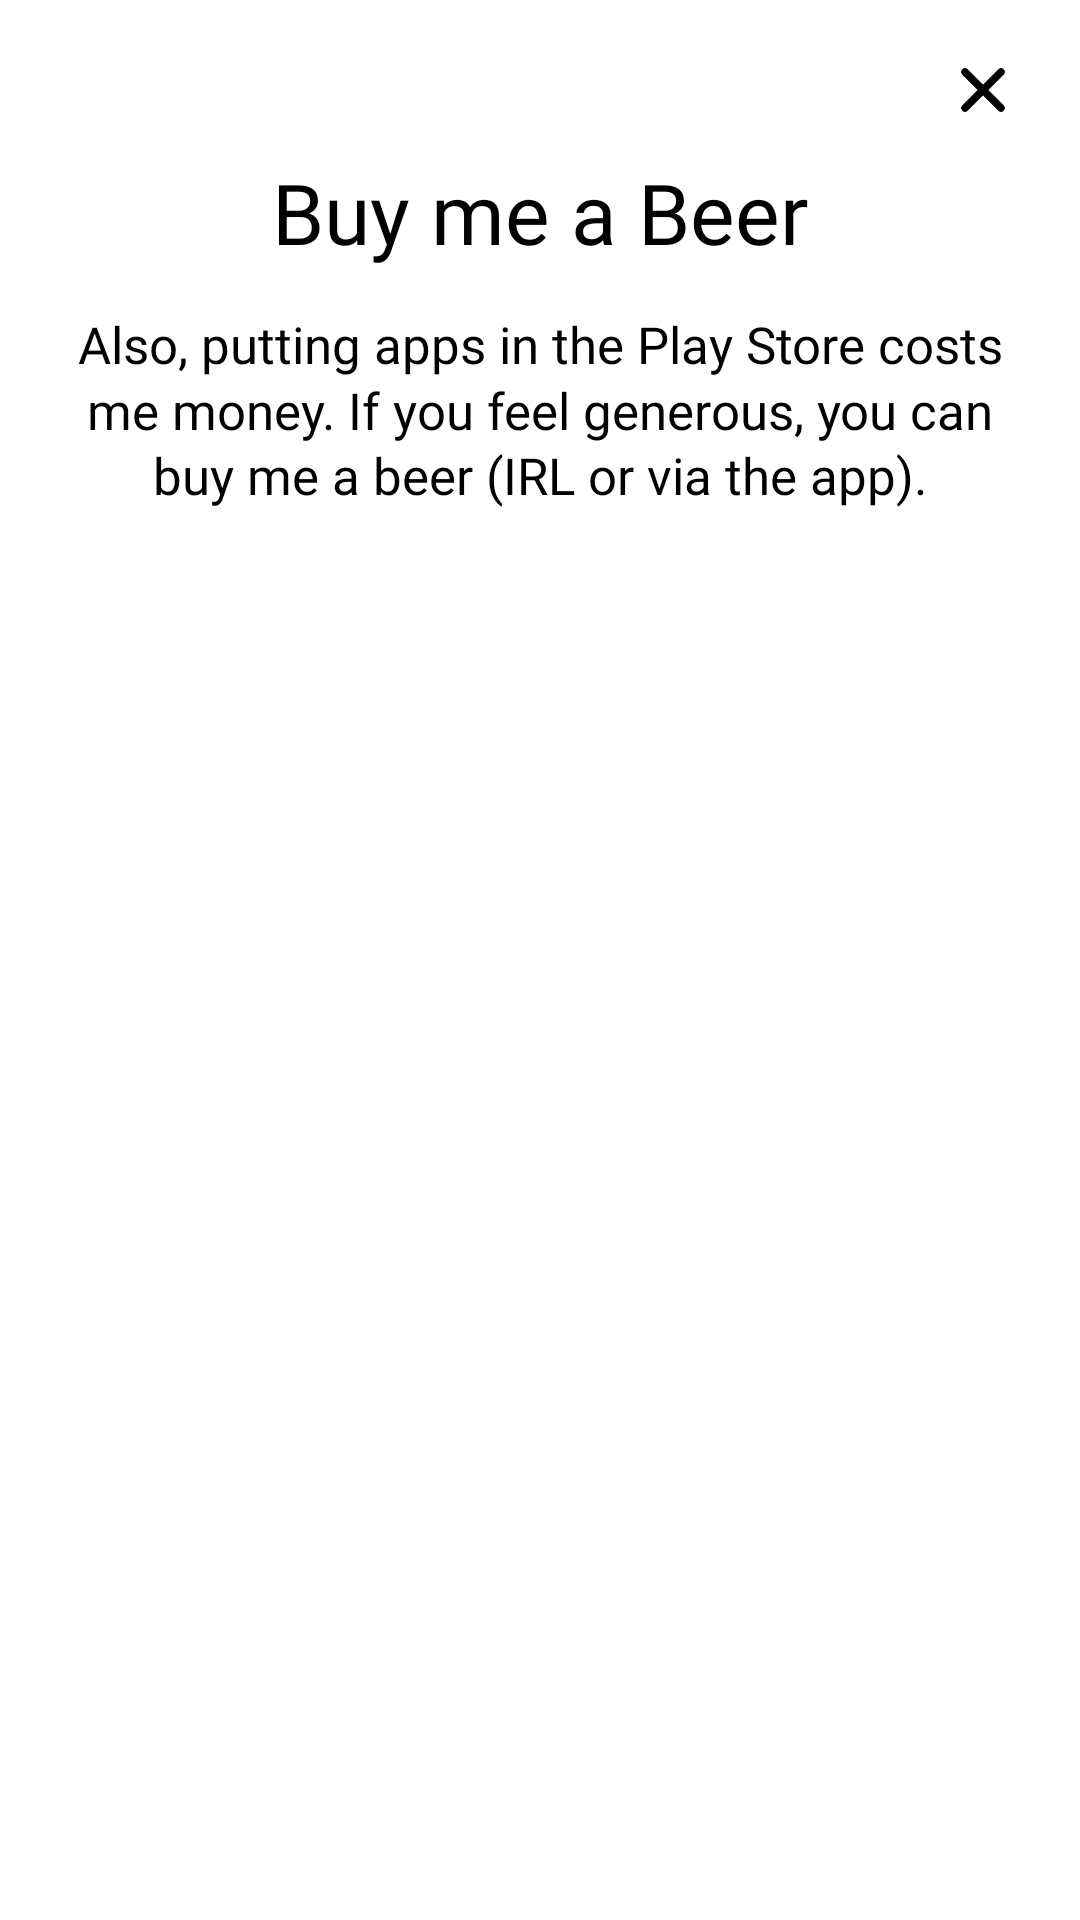

Icons on this 1080px×1920px Android screen, each with its box as (x1, y1, x2, y2):
Close: (961, 68, 1005, 112)
